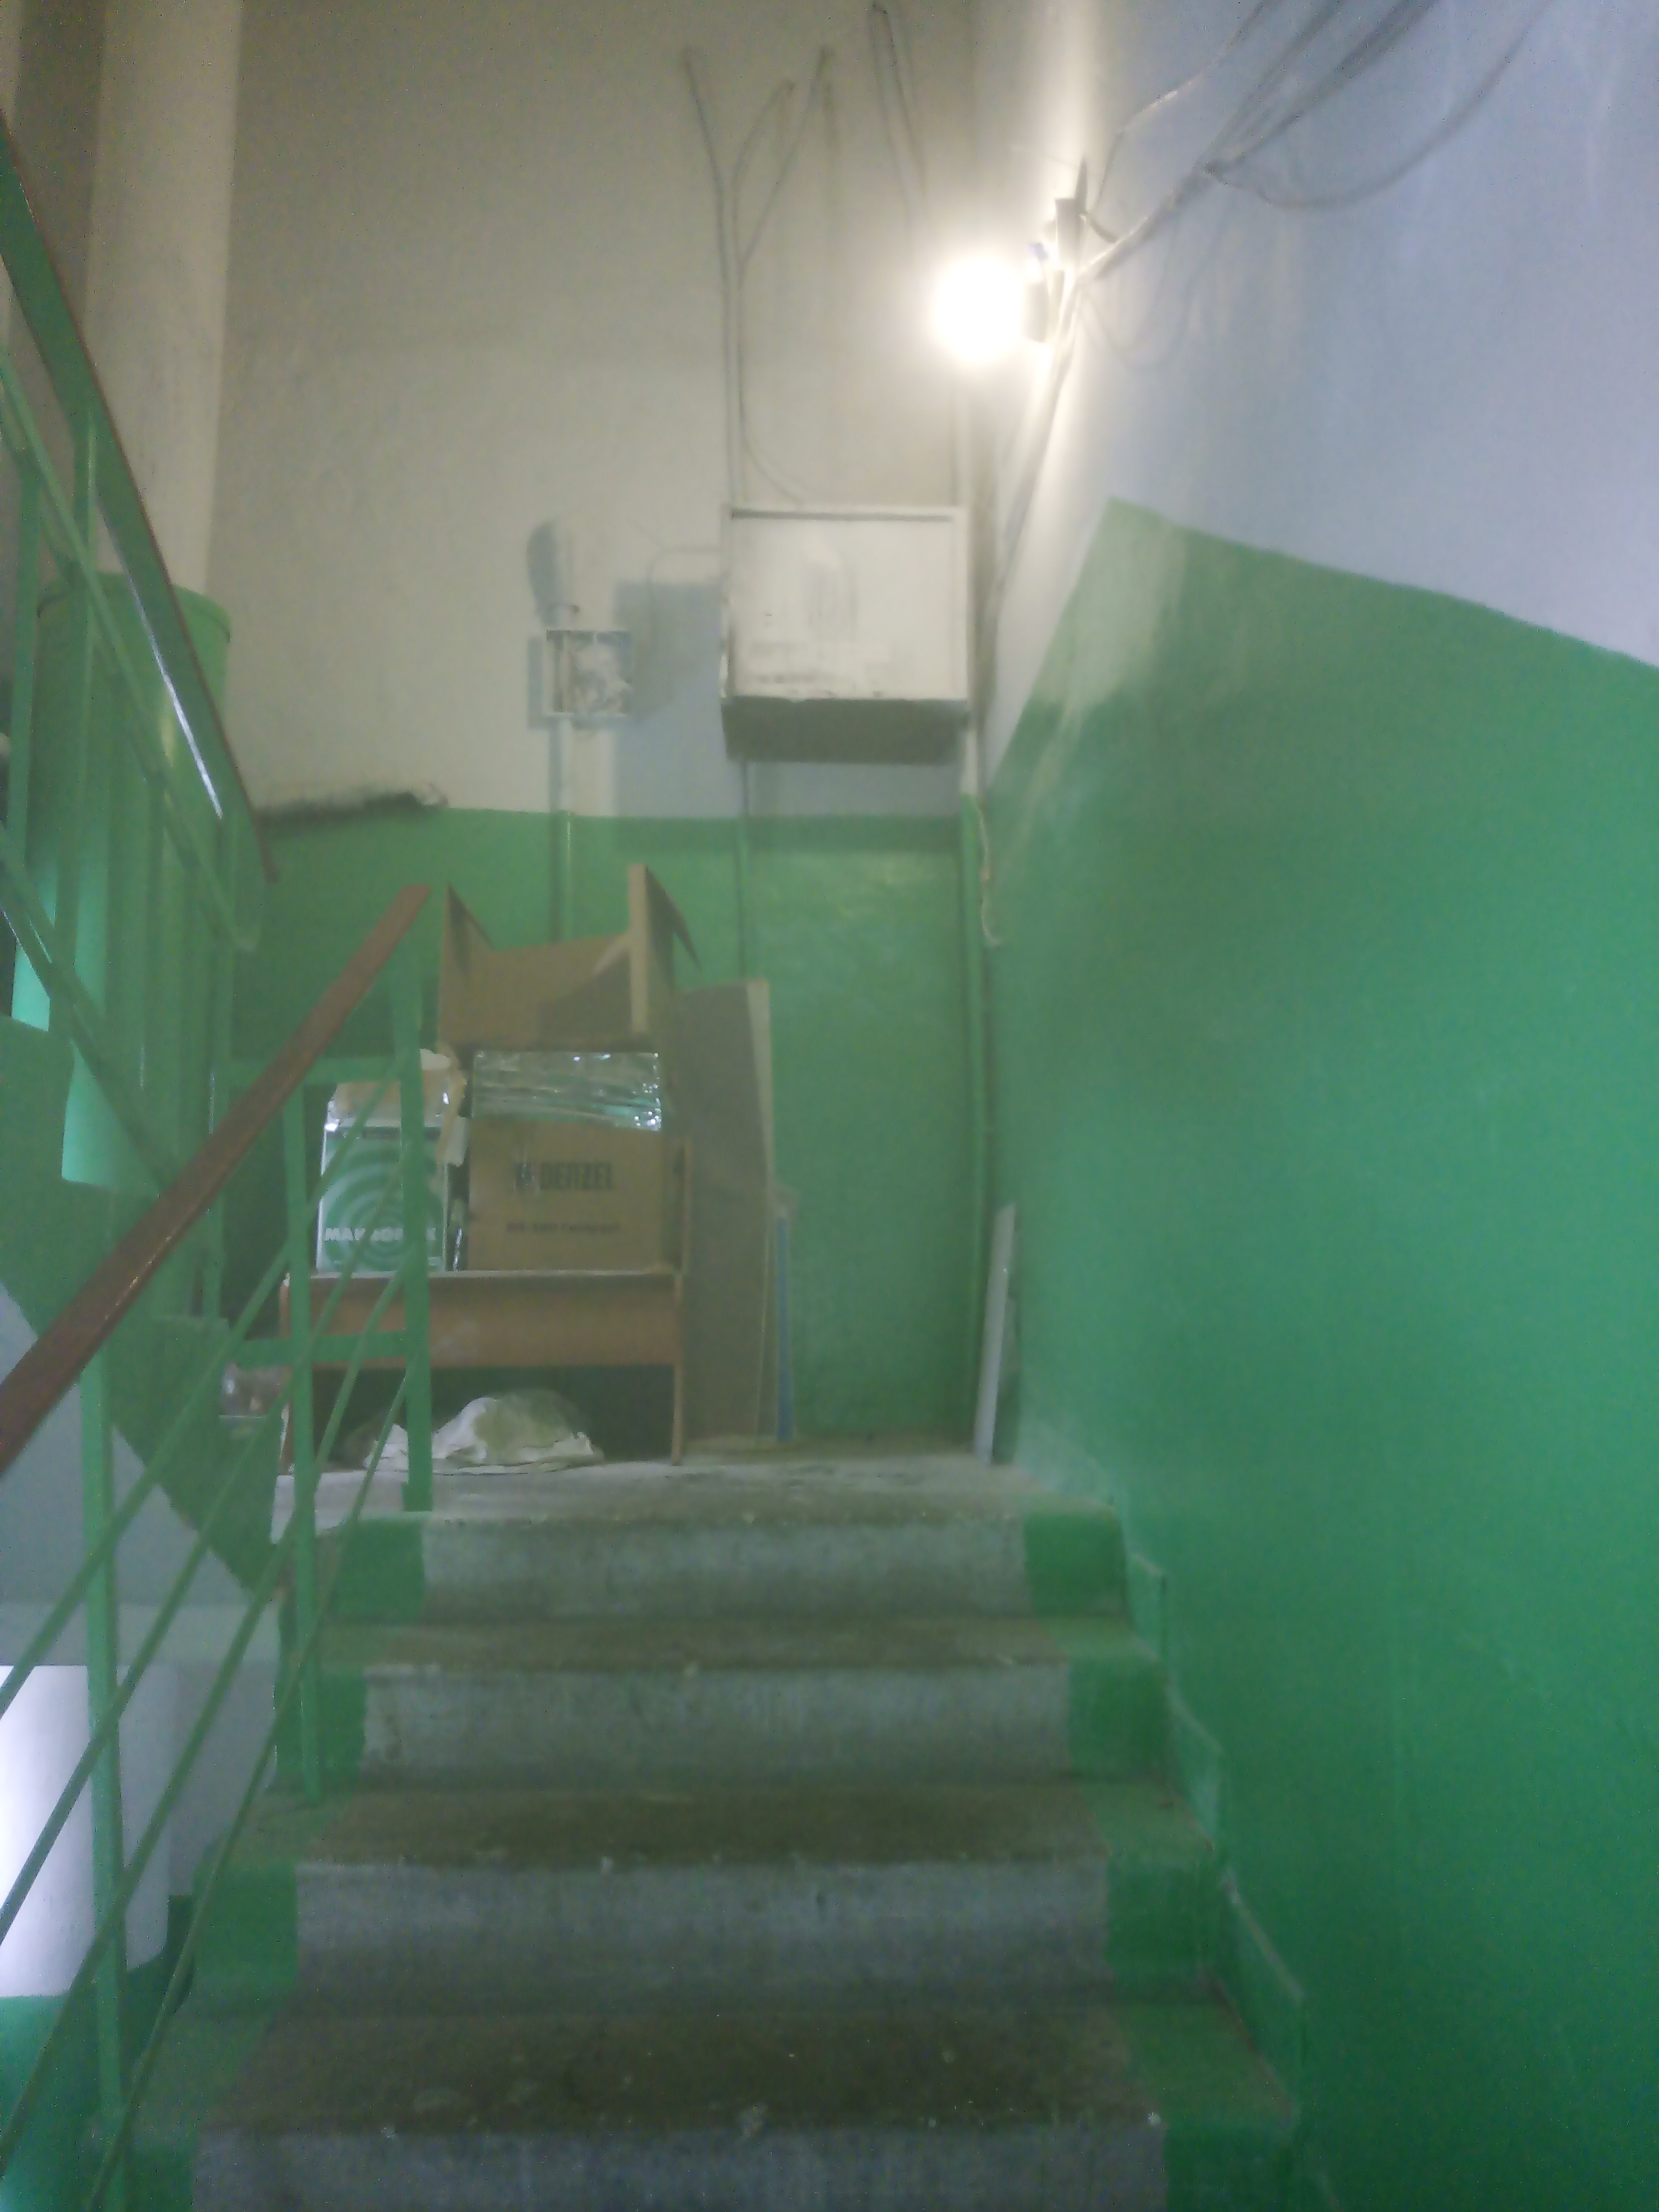shta-9m: (706, 496, 981, 773)
